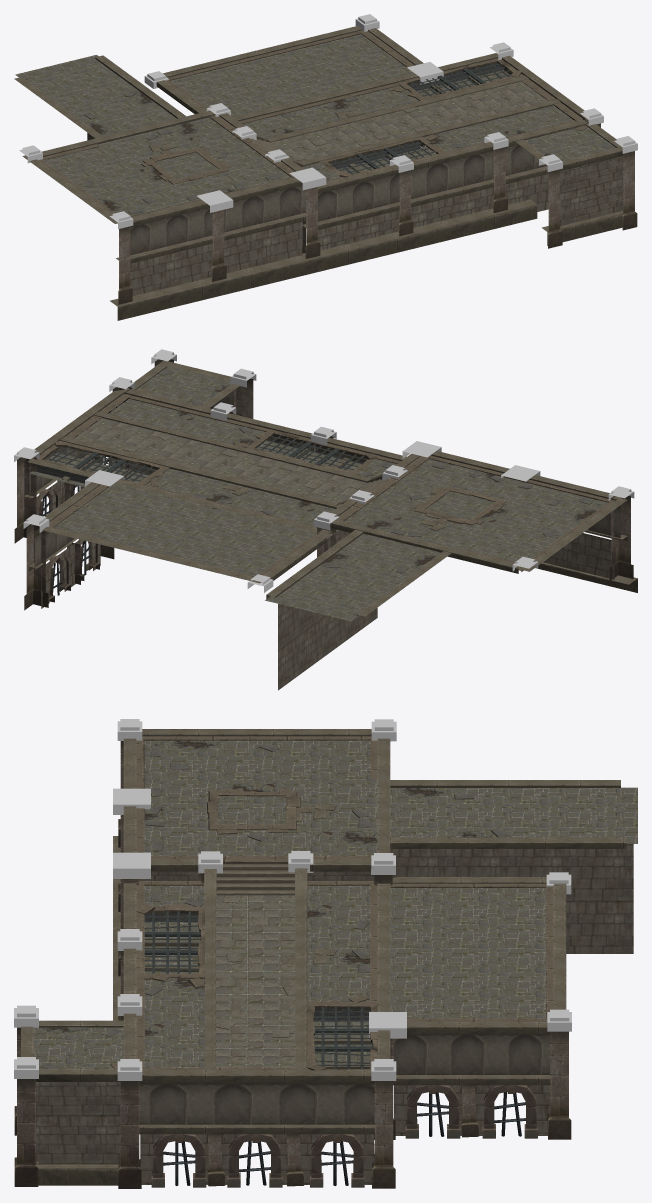
Rendered from section01_guanka05_b.FBX.
The picture shows the model from 3 angles, top to bottom: view 1: azimuth 30°, elevation 25°; view 2: azimuth 150°, elevation 25°; view 3: azimuth 270°, elevation 25°; orthographic projection. The views are drawn at different scales.
Parts seen in each view (by area): view 1: section01_guanka05_b; view 2: section01_guanka05_b; view 3: section01_guanka05_b.
Boxes of the visible parts, x1,y1,x2,y2 form: section01_guanka05_b: (14,14,637,320); section01_guanka05_b: (14,349,637,690); section01_guanka05_b: (14,719,637,1188).
Size of the model in its own units: 80.19 by 63.1 by 15.63.
